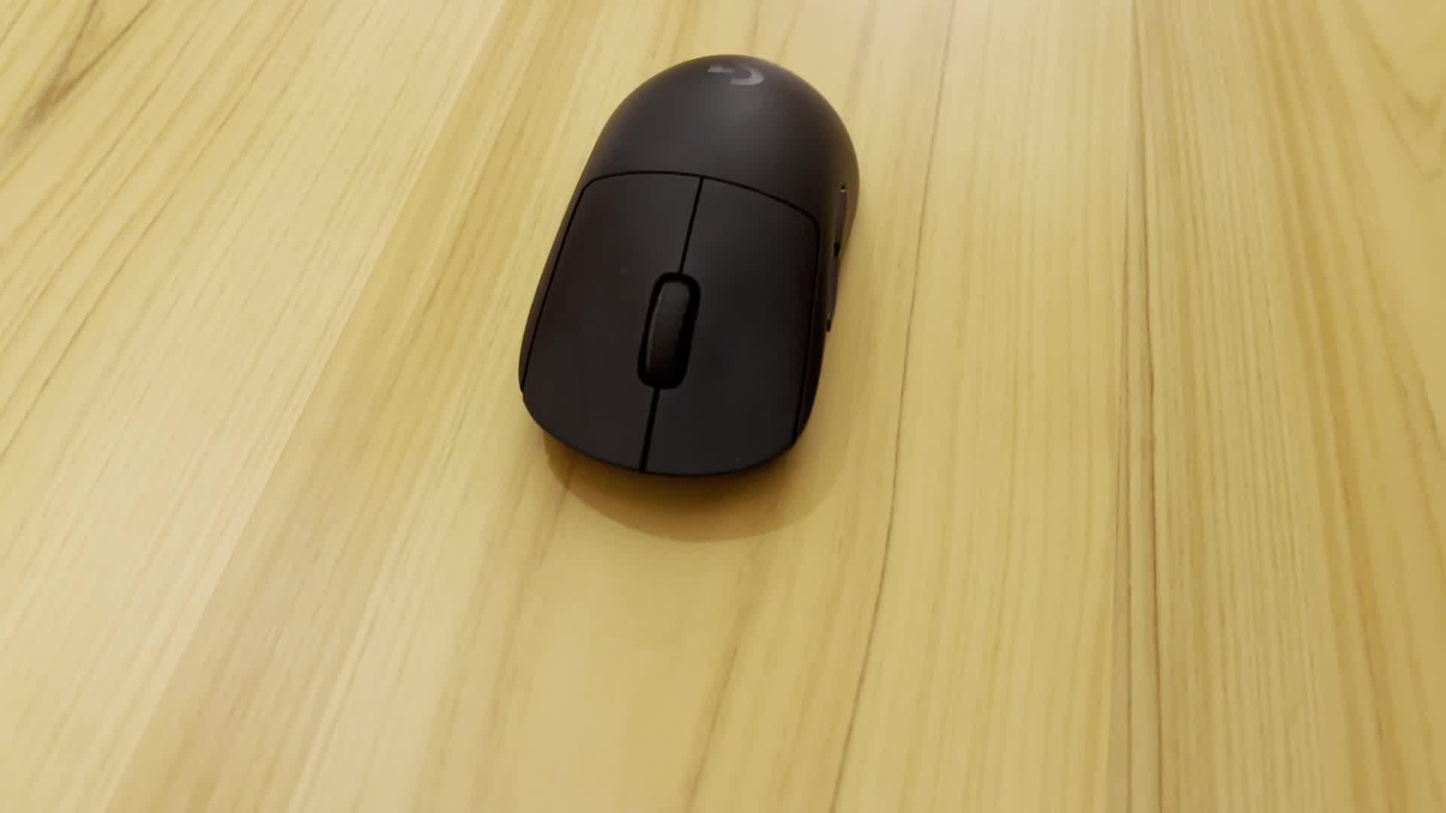logicool: (504, 48, 869, 494)
